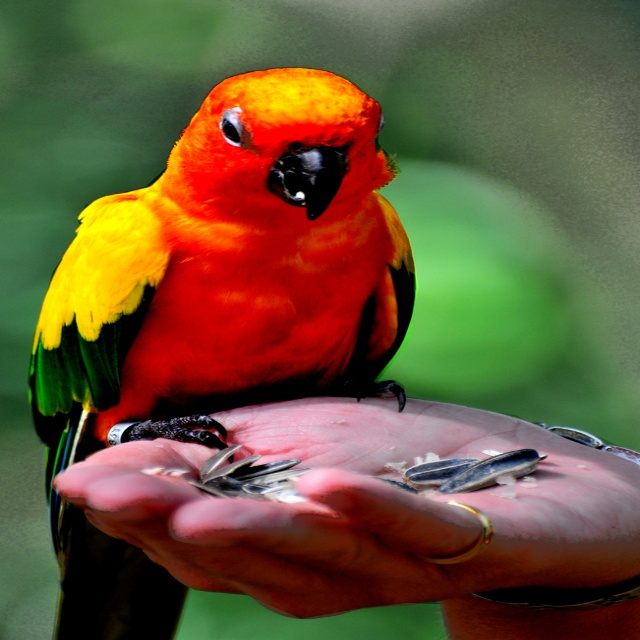Parrot: (28, 67, 417, 640)
